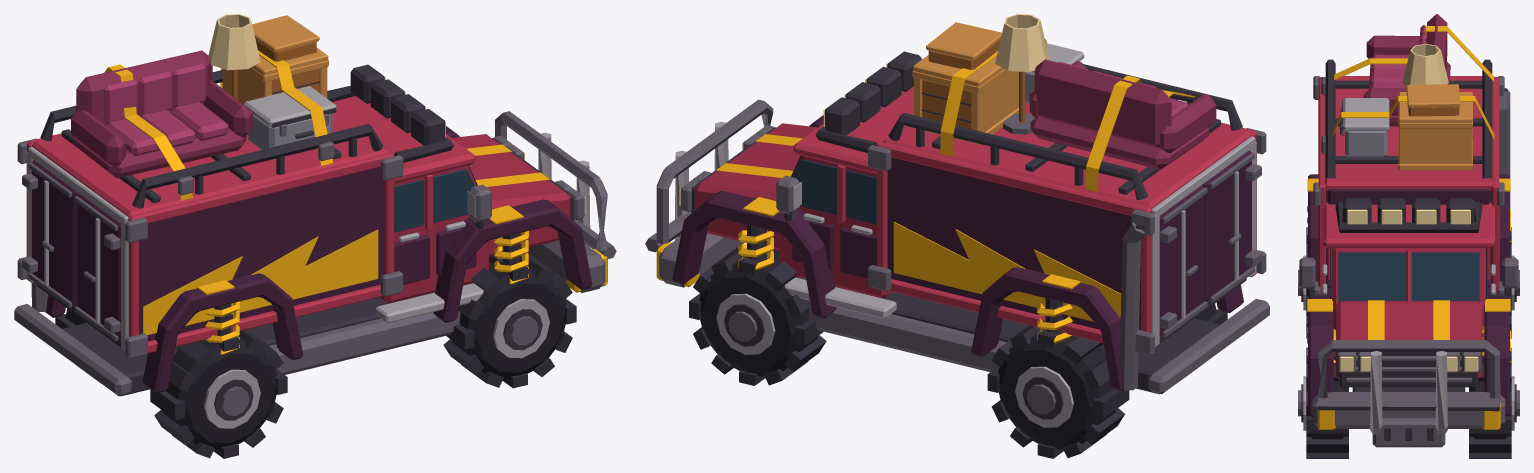
Rendered from thief_truck_01_LOD1.fbx.
3 renders of one model, left to right at view 1: azimuth 30°, elevation 25°; view 2: azimuth 150°, elevation 25°; view 3: azimuth 270°, elevation 25°, orthographic. The views are drawn at different scales.
Parts seen in each view (by area): view 1: CargoBody_LOD1_Mesh, Cabin_LOD1_Mesh, StolenCouch_LOD1_Mesh, WheelArchArmour_LOD1_Mesh, Wheel_Rear_Right_LOD1_Mesh, Wheel_Front_Right_LOD1_Mesh, Chassis_LOD1_Mesh, RearCargoDoor_Right_LOD1_Mesh, RearCargoDoor_Left_LOD1_Mesh, RoofRack_LOD1_Mesh, GreyStorageContainer_LOD1_Mesh, YellowCargoStraps_LOD1_Mesh (+3 smaller); view 2: CargoBody_LOD1_Mesh, Cabin_LOD1_Mesh, Wheel_Rear_Left_LOD1_Mesh, WheelArchArmour_LOD1_Mesh, Wheel_Front_Left_LOD1_Mesh, StolenCouch_LOD1_Mesh, Chassis_LOD1_Mesh, RearCargoDoor_Left_LOD1_Mesh, RearCargoDoor_Right_LOD1_Mesh, RoofRack_LOD1_Mesh, WoodenStorageCrate_LOD1_Mesh, CreamFloorLamp_LOD1_Mesh (+4 smaller); view 3: Cabin_LOD1_Mesh, CargoBody_LOD1_Mesh, WheelArchArmour_LOD1_Mesh, WoodenStorageCrate_LOD1_Mesh, RoofRack_LOD1_Mesh, StolenCouch_LOD1_Mesh, GreyStorageContainer_LOD1_Mesh, Wheel_Front_Right_LOD1_Mesh, Wheel_Front_Left_LOD1_Mesh, YellowCargoStraps_LOD1_Mesh, SmallWoodenBox_LOD1_Mesh, CreamFloorLamp_LOD1_Mesh (+4 smaller).
Part boxes in pixels (x1,y1,x2,y2): CargoBody_LOD1_Mesh: (14,113,403,396); Cabin_LOD1_Mesh: (327,64,616,323); StolenCouch_LOD1_Mesh: (71,50,252,178); WheelArchArmour_LOD1_Mesh: (45,126,592,393); Wheel_Rear_Right_LOD1_Mesh: (150,329,287,458); Wheel_Front_Right_LOD1_Mesh: (443,254,576,388); Chassis_LOD1_Mesh: (62,231,528,396); RearCargoDoor_Right_LOD1_Mesh: (22,160,79,307); RearCargoDoor_Left_LOD1_Mesh: (74,194,120,341); RoofRack_LOD1_Mesh: (40,70,383,208); GreyStorageContainer_LOD1_Mesh: (244,86,336,149); YellowCargoStraps_LOD1_Mesh: (104,50,334,200); CargoBody_LOD1_Mesh: (868,103,1269,394); Cabin_LOD1_Mesh: (645,51,922,318); Wheel_Rear_Left_LOD1_Mesh: (987,325,1129,458); WheelArchArmour_LOD1_Mesh: (672,115,1243,391); Wheel_Front_Left_LOD1_Mesh: (689,247,826,385); StolenCouch_LOD1_Mesh: (1029,59,1216,169); Chassis_LOD1_Mesh: (738,224,1220,394); RearCargoDoor_Left_LOD1_Mesh: (1202,150,1261,302); RearCargoDoor_Right_LOD1_Mesh: (1159,185,1207,337); RoofRack_LOD1_Mesh: (888,64,1242,200); WoodenStorageCrate_LOD1_Mesh: (912,55,1018,144); CreamFloorLamp_LOD1_Mesh: (995,14,1049,134); Cabin_LOD1_Mesh: (1299,198,1518,447); CargoBody_LOD1_Mesh: (1313,76,1504,294); WheelArchArmour_LOD1_Mesh: (1307,174,1510,415); WoodenStorageCrate_LOD1_Mesh: (1398,92,1472,170); RoofRack_LOD1_Mesh: (1325,59,1492,178); StolenCouch_LOD1_Mesh: (1363,14,1450,125); GreyStorageContainer_LOD1_Mesh: (1340,98,1389,157); Wheel_Front_Right_LOD1_Mesh: (1298,347,1348,458); Wheel_Front_Left_LOD1_Mesh: (1469,347,1519,458); YellowCargoStraps_LOD1_Mesh: (1321,26,1494,157); SmallWoodenBox_LOD1_Mesh: (1406,84,1460,116); CreamFloorLamp_LOD1_Mesh: (1402,43,1448,85).
Bounding box in the file's own units: 8.39 × 5.82 × 3.74.
